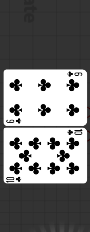10C: (6, 175, 23, 182)
5C: (66, 70, 84, 78)
